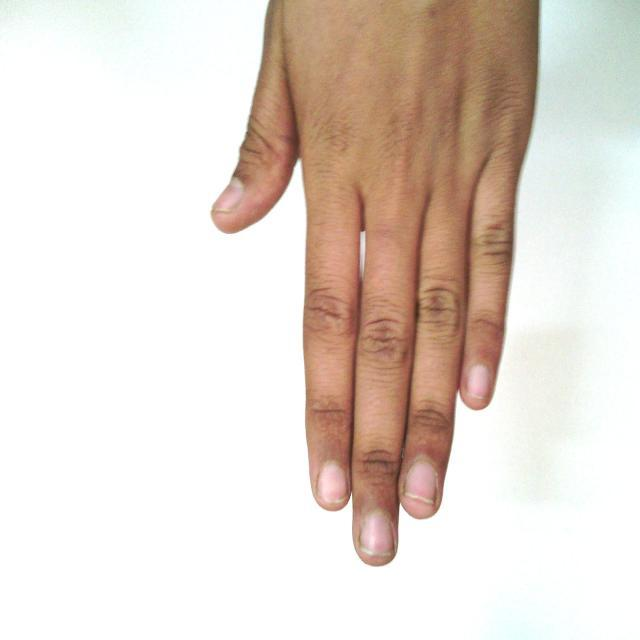Fingernail: (361, 513, 393, 556), (406, 462, 436, 503), (319, 464, 347, 505), (214, 179, 242, 211), (467, 366, 490, 398)
